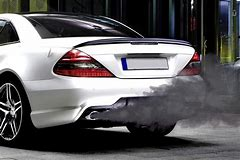smoke: (99, 74, 240, 127)
